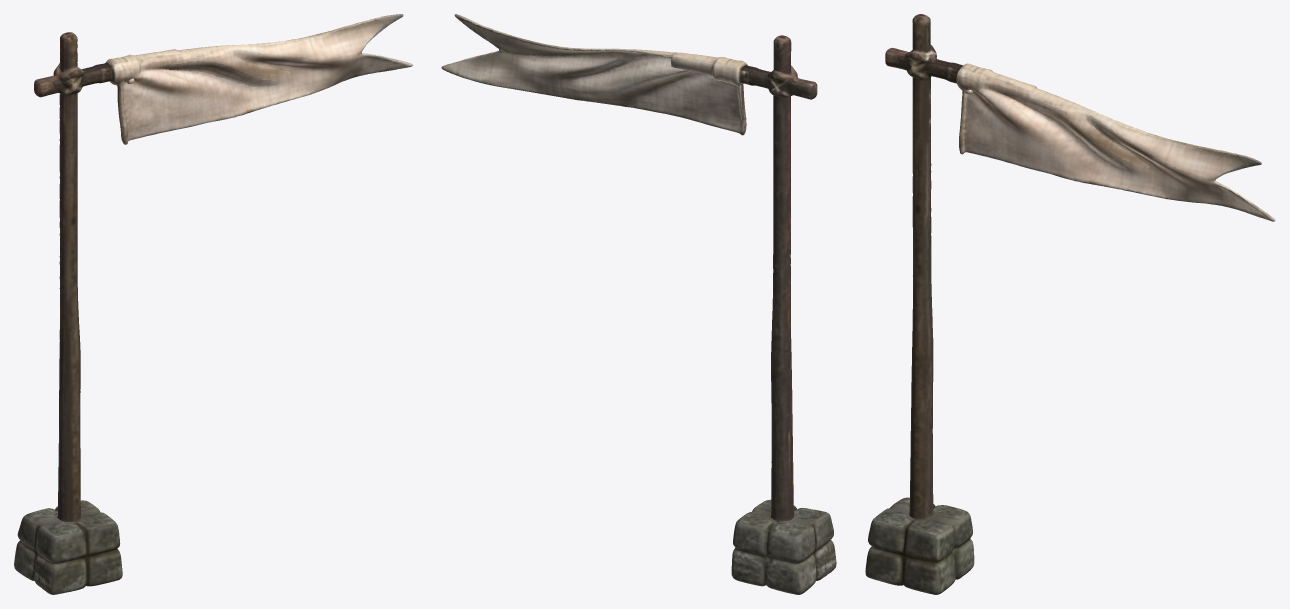
The model's file is demo-wind-banner.glb.
The picture shows the model from 3 angles, left to right: view 1: azimuth 30°, elevation 25°; view 2: azimuth 150°, elevation 25°; view 3: azimuth 330°, elevation 25°; orthographic projection. The views are drawn at different scales.
Visible parts, largest first — view 1: geometry_0; view 2: geometry_0; view 3: geometry_0.
Boxes of the visible parts, x1=… form: geometry_0: x1=14, y1=14, x2=412, y2=594; geometry_0: x1=441, y1=14, x2=836, y2=594; geometry_0: x1=865, y1=14, x2=1275, y2=594.
Bounding box in the file's own units: 1.84 × 2.5 × 0.3305.
1 material, 1 textured.
